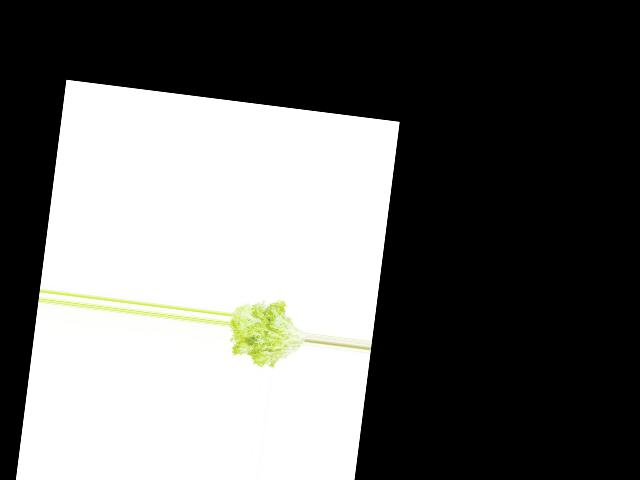lettuce: (225, 293, 311, 375)
